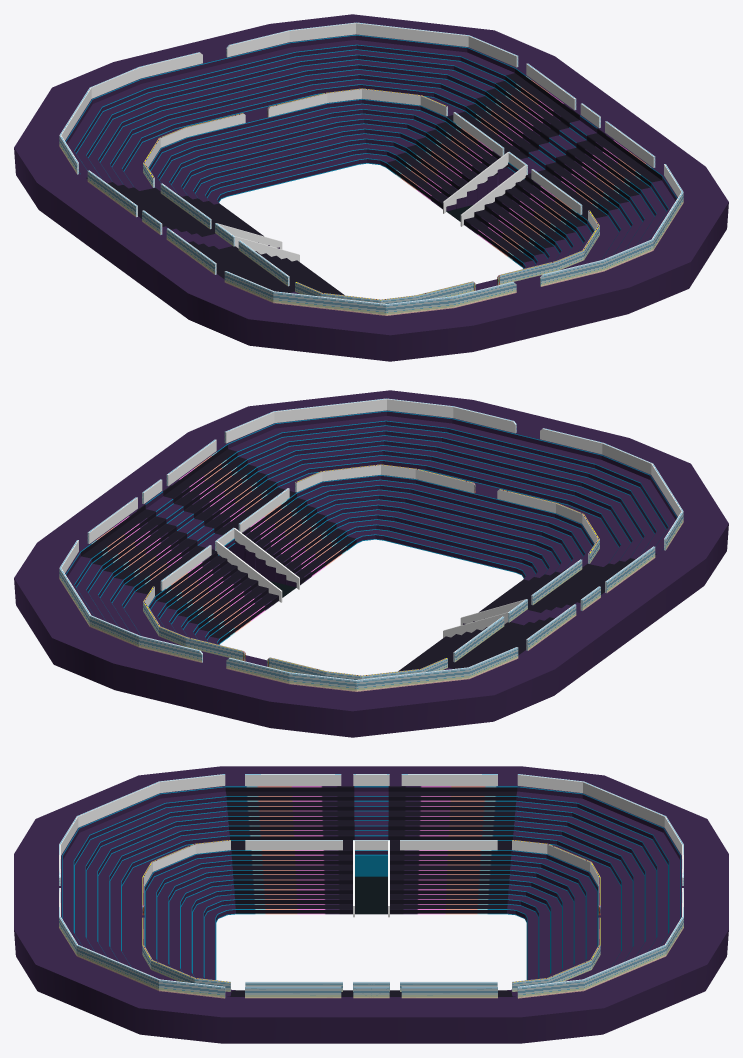
The model's file is SM_Stadium_MC.fbx.
The picture shows the model from 3 angles, top to bottom: view 1: azimuth 30°, elevation 25°; view 2: azimuth 150°, elevation 25°; view 3: azimuth 270°, elevation 25°; orthographic projection.
Parts seen in each view (by area): view 1: SM_Stadium_MC; view 2: SM_Stadium_MC; view 3: SM_Stadium_MC.
Boxes of the visible parts, x1=… form: SM_Stadium_MC: x1=14, y1=14, x2=728, y2=361; SM_Stadium_MC: x1=14, y1=390, x2=728, y2=737; SM_Stadium_MC: x1=14, y1=766, x2=728, y2=1043.
Bounding box in the file's own units: 12570 × 1766 × 15132.
